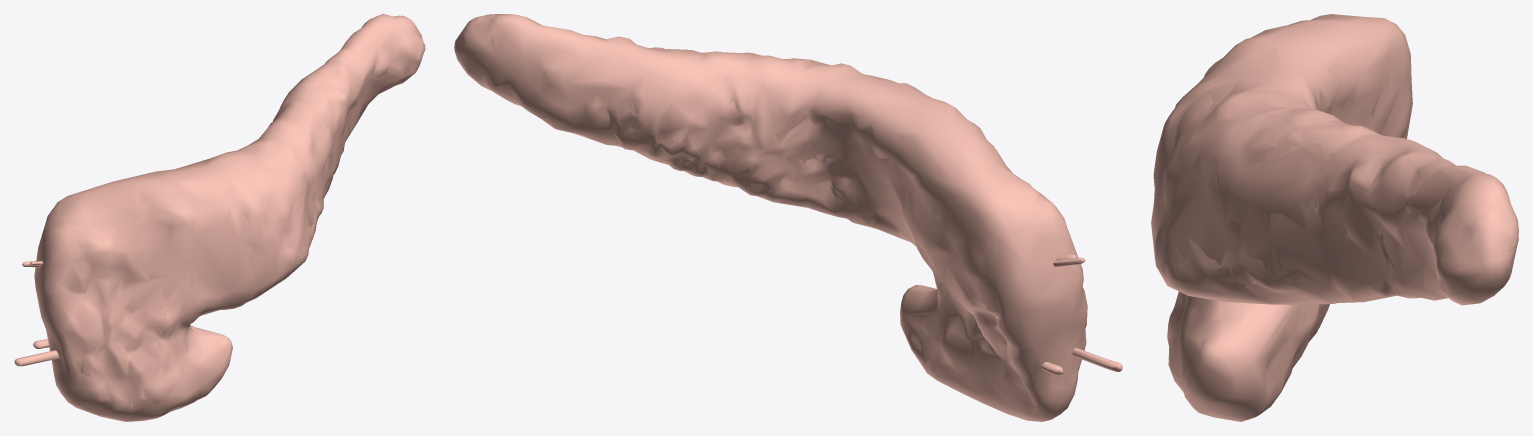
Rendered from pancreas.glb.
3 views of the same model, side by side, from view 1: azimuth 30°, elevation 25°; view 2: azimuth 150°, elevation 25°; view 3: azimuth 270°, elevation 25° (orthographic). The views are drawn at different scales.
Visible parts, largest first — view 1: FJ1895, FJ2629, FJ2630; view 2: FJ1895, FJ2629, FJ2630; view 3: FJ1895, FJ2629.
Boxes of the visible parts, left/top/right/bottom form: FJ1895: left=34, top=14, right=425, bottom=421; FJ2629: left=35, top=14, right=422, bottom=421; FJ2630: left=14, top=261, right=59, bottom=366; FJ1895: left=454, top=14, right=1087, bottom=421; FJ2629: left=460, top=14, right=1086, bottom=421; FJ2630: left=1053, top=257, right=1122, bottom=371; FJ1895: left=1151, top=14, right=1518, bottom=421; FJ2629: left=1151, top=15, right=1518, bottom=421.
Bounding box in the file's own units: 0.3882 × 0.2212 × 0.1529.
